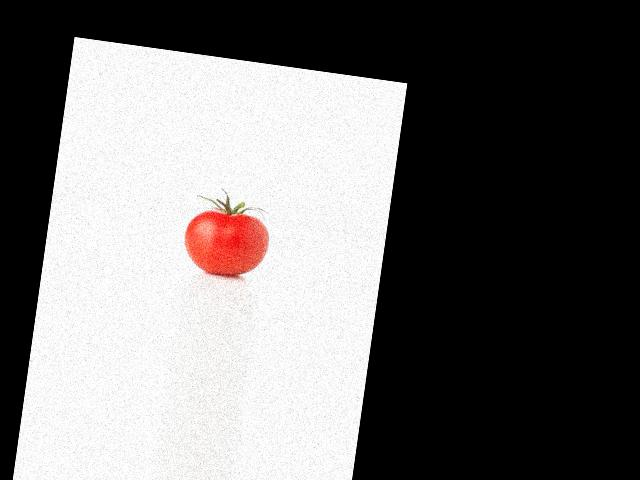tomato: (180, 206, 271, 280)
